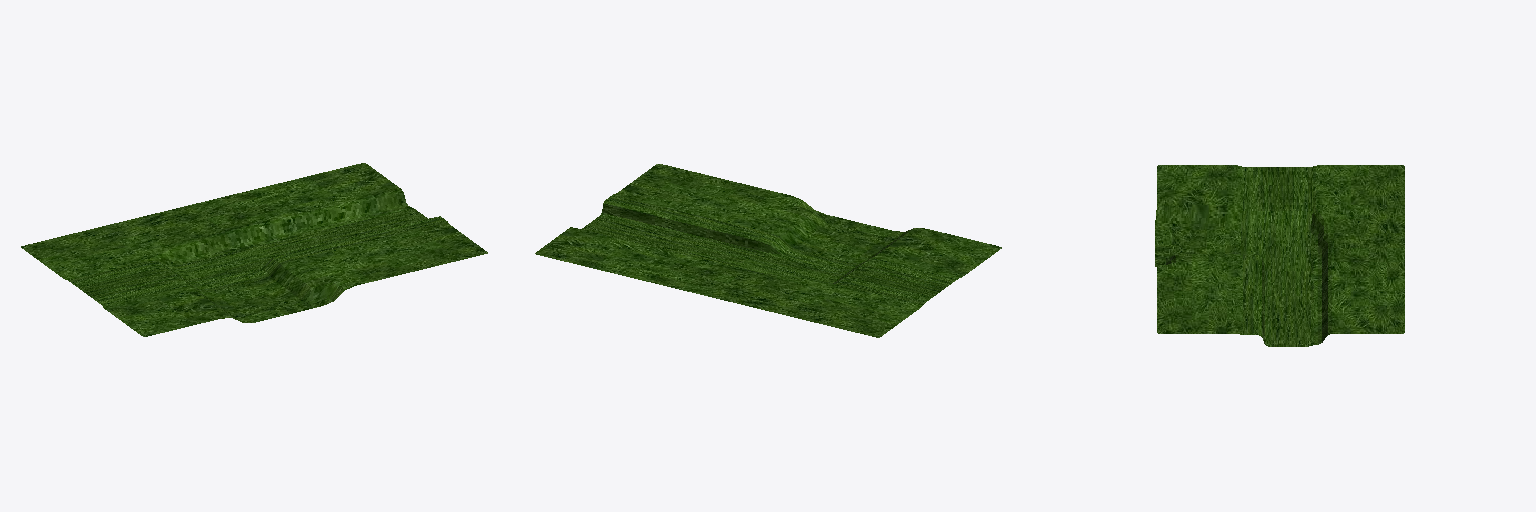
The picture shows the model from 3 angles: view 1: azimuth 30°, elevation 25°; view 2: azimuth 150°, elevation 25°; view 3: azimuth 270°, elevation 25°; orthographic projection.
Visible parts, largest first — view 1: Plane; view 2: Plane; view 3: Plane.
Boxes of the visible parts, box(x1,y1,x2,y2) form: Plane: box(21, 163, 487, 336); Plane: box(535, 164, 1001, 337); Plane: box(1155, 165, 1404, 346).
Size of the model in its own units: 48.22 by 1.57 by 30.08.
1 materials, 1 textured.